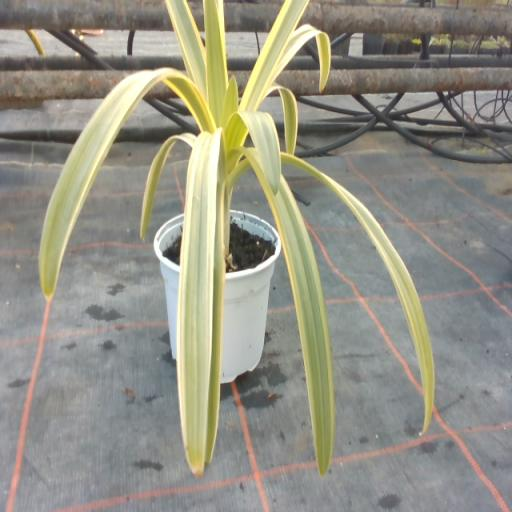Agapanthus-praecox: (282, 154, 433, 431), (40, 68, 215, 300), (228, 148, 334, 475), (177, 129, 219, 475), (240, 0, 308, 109), (205, 171, 228, 463), (141, 135, 195, 238), (226, 110, 280, 192), (270, 25, 330, 91), (166, 0, 205, 92), (204, 0, 226, 122), (270, 85, 297, 154), (222, 76, 237, 127)
